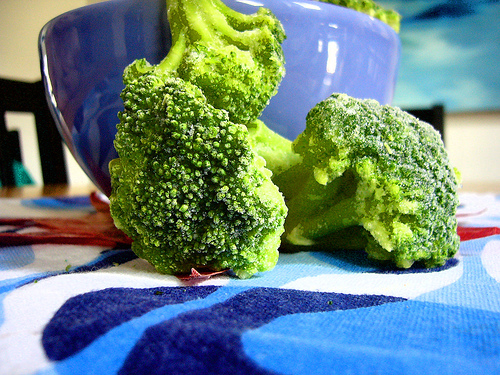broccoli: (119, 2, 456, 269)
